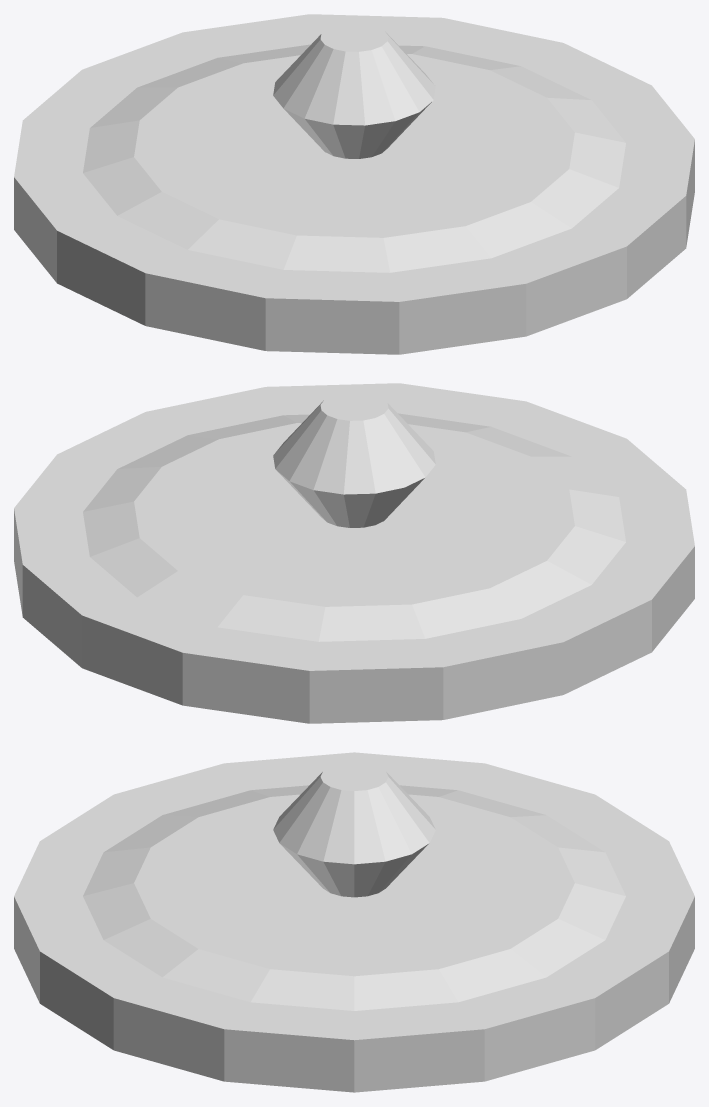
Rendered from Teapot_02.fbx.
3 renders of one model, top to bottom at view 1: azimuth 30°, elevation 25°; view 2: azimuth 150°, elevation 25°; view 3: azimuth 270°, elevation 25°, orthographic.
Parts seen in each view (by area): view 1: Teapot_02; view 2: Teapot_02; view 3: Teapot_02.
Part boxes in pixels (<box>): Teapot_02: <box>14,14,694,354</box>; Teapot_02: <box>14,383,694,723</box>; Teapot_02: <box>14,752,694,1092</box>.
Size of the model in its own units: 11.02 by 3.07 by 11.02.
